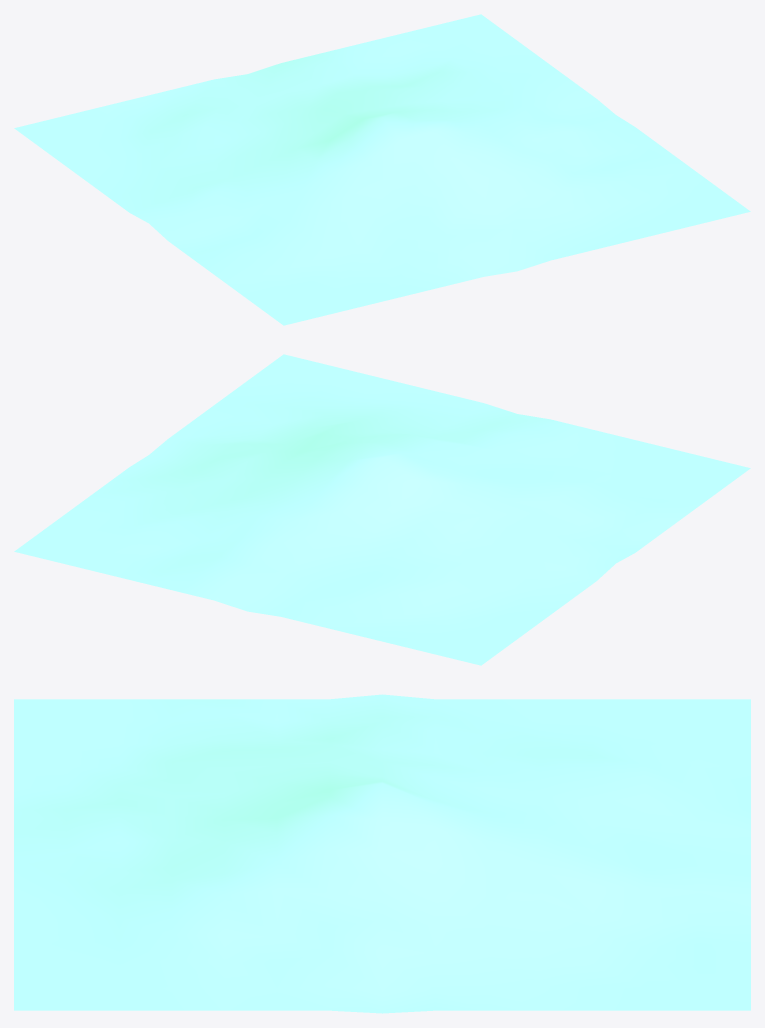
The model's file is AlienMossPatch_01.fbx.
The picture shows the model from 3 angles, top to bottom: view 1: azimuth 30°, elevation 25°; view 2: azimuth 150°, elevation 25°; view 3: azimuth 270°, elevation 25°; orthographic projection. The views are drawn at different scales.
Visible parts, largest first — view 1: AlienMossPatch_01; view 2: AlienMossPatch_01; view 3: AlienMossPatch_01.
Boxes of the visible parts, x1,y1,x2,y2 form: AlienMossPatch_01: (14,14,750,325); AlienMossPatch_01: (14,354,750,665); AlienMossPatch_01: (14,694,750,1013).
Bounding box in the file's own units: 140 × 15.87 × 140.
